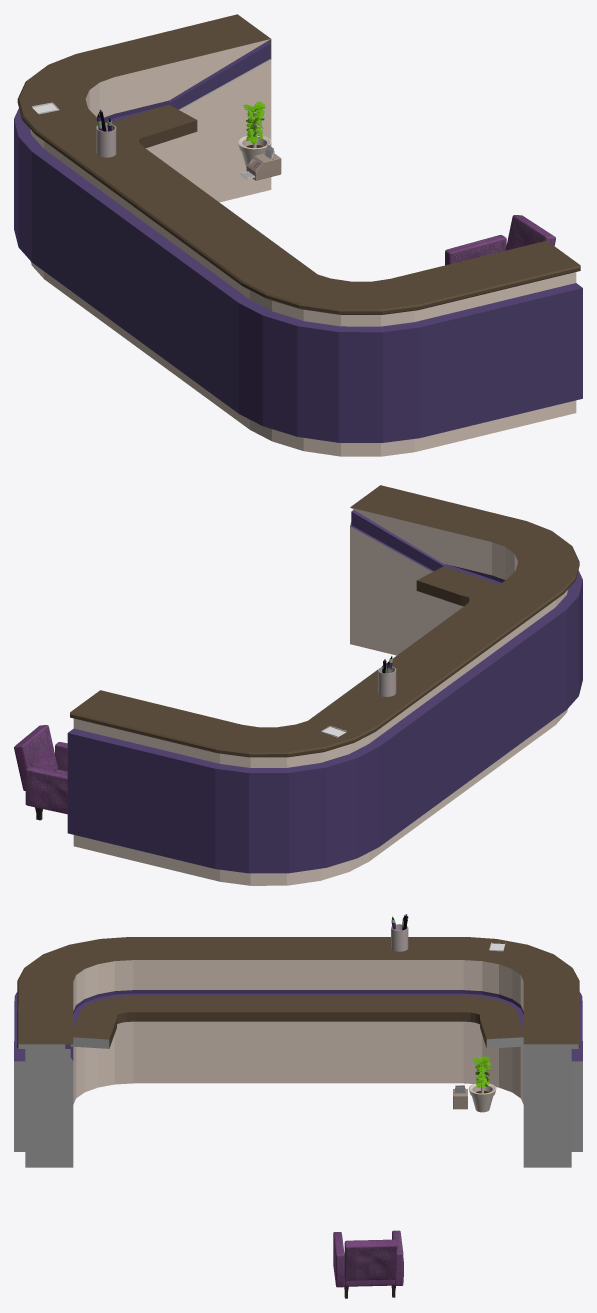
File: recepetion asset.fbx
3 renders of one model, top to bottom at view 1: azimuth 30°, elevation 25°; view 2: azimuth 150°, elevation 25°; view 3: azimuth 270°, elevation 25°, orthographic. The views are drawn at different scales.
Visible parts, largest first — view 1: polySurface115, polySurface110, pCube120, polySurface100, polySurface117; view 2: polySurface115, polySurface110, polySurface117; view 3: polySurface115, polySurface110, pCube120, polySurface117.
Boxes of the visible parts, x1=… form: polySurface115: x1=14, y1=14, x2=582, y2=456; polySurface110: x1=445, y1=215, x2=555, y2=265; pCube120: x1=237, y1=101, x2=271, y2=168; polySurface100: x1=240, y1=145, x2=281, y2=180; polySurface117: x1=96, y1=109, x2=116, y2=157; polySurface115: x1=67, y1=485, x2=582, y2=885; polySurface110: x1=14, y1=725, x2=67, y2=820; polySurface117: x1=378, y1=656, x2=396, y2=696; polySurface115: x1=14, y1=937, x2=582, y2=1167; polySurface110: x1=333, y1=1230, x2=403, y2=1298; pCube120: x1=468, y1=1056, x2=496, y2=1112; polySurface117: x1=391, y1=914, x2=408, y2=951.
Size of the model in its own units: 10378 by 6114 by 13899.
